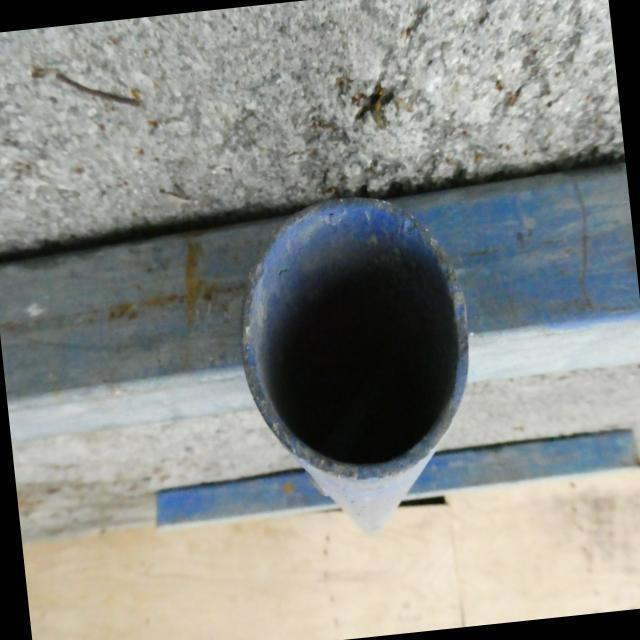pipe: (242, 195, 470, 478)
